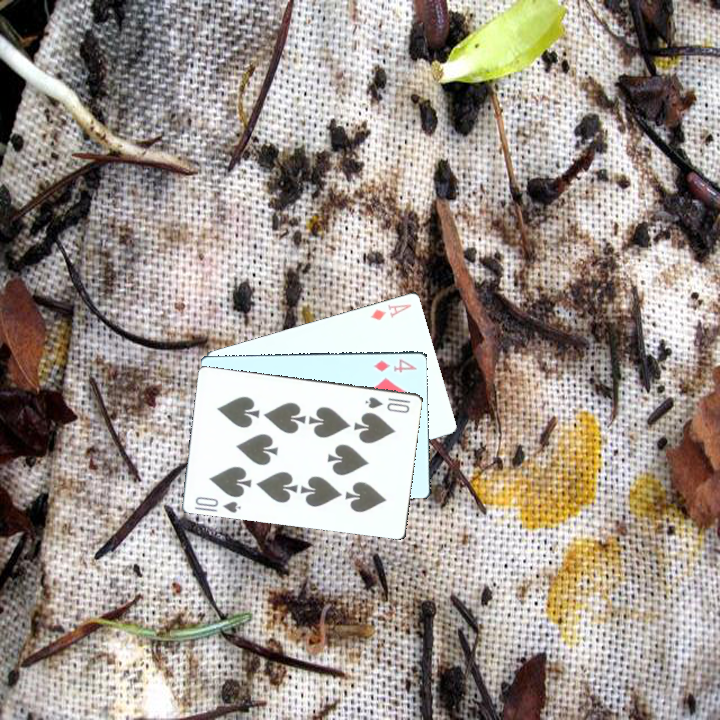10s: (361, 393, 413, 415), (191, 493, 243, 515)
4d: (370, 355, 419, 375)
Ad: (366, 300, 414, 323)
